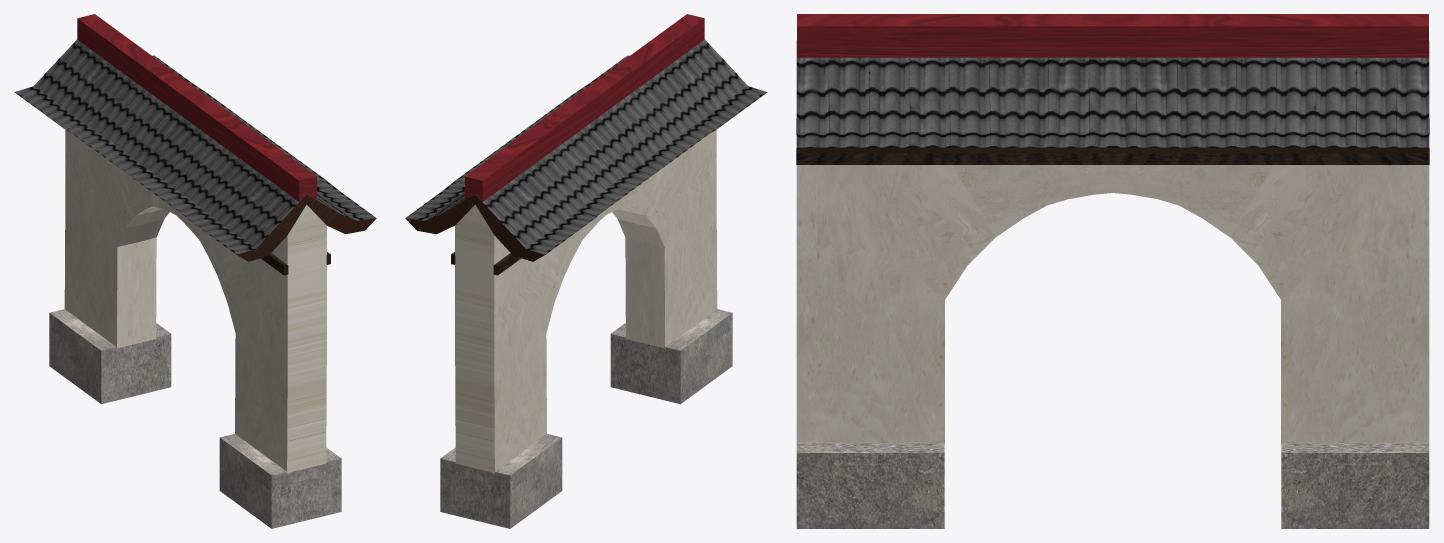
The model's file is backdoor_gate.fbx.
3 renders of one model, left to right at view 1: azimuth 30°, elevation 25°; view 2: azimuth 150°, elevation 25°; view 3: azimuth 270°, elevation 25°, orthographic. The views are drawn at different scales.
Visible parts, largest first — view 1: pCube27; view 2: pCube27; view 3: pCube27.
Part boxes in pixels (bbox=[...]): pCube27: bbox=[14, 14, 376, 528]; pCube27: bbox=[405, 14, 767, 528]; pCube27: bbox=[796, 14, 1429, 528].
Size of the model in its own units: 4.39 by 10.16 by 12.01.
7 materials, 6 textured.
